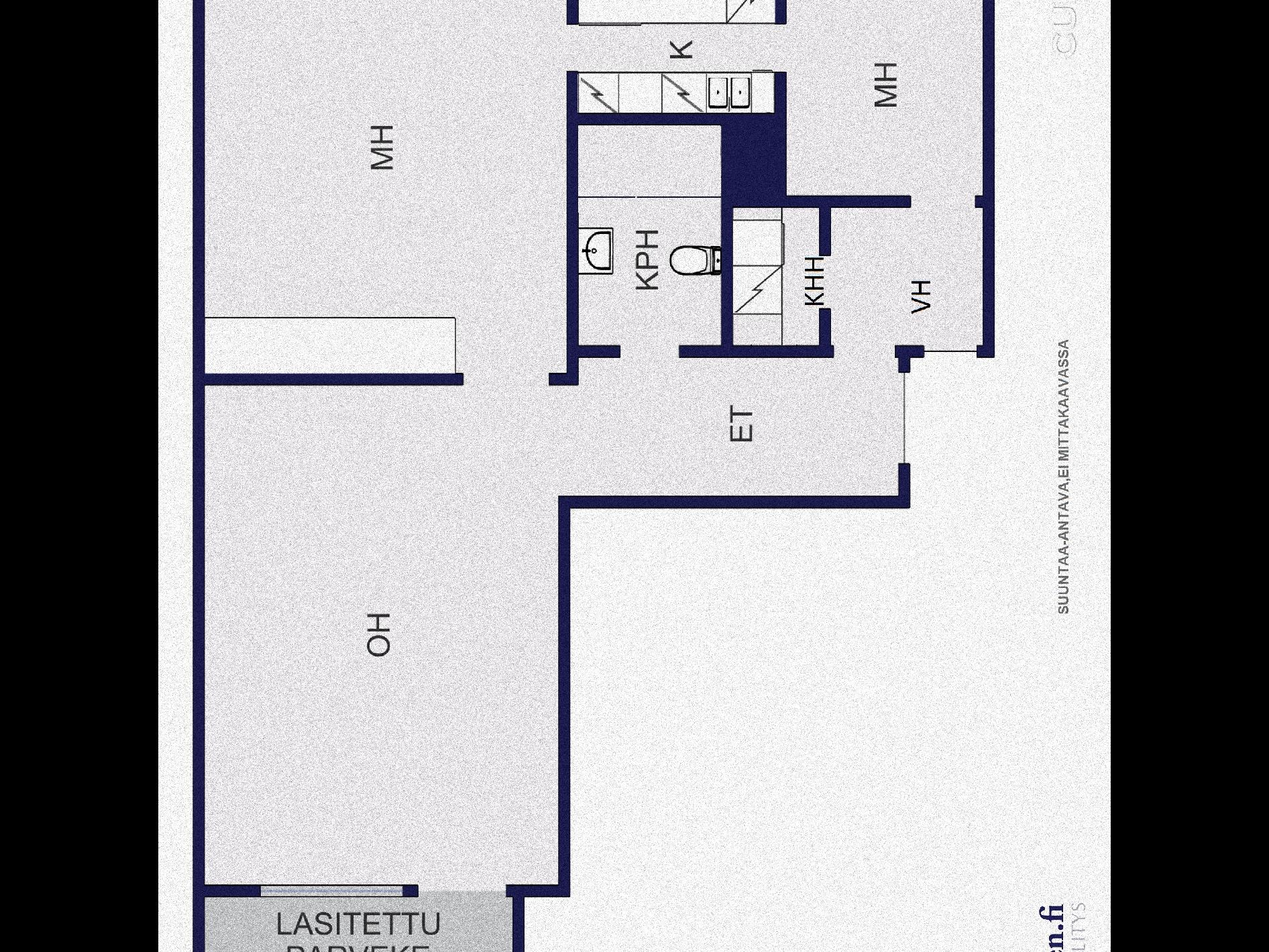window: (261, 884, 401, 896)
zone: (203, 383, 553, 882), (204, 0, 564, 371), (553, 354, 902, 496), (784, 0, 986, 198), (573, 124, 719, 343), (833, 198, 984, 350), (575, 0, 776, 111), (205, 892, 514, 952), (730, 215, 816, 346)
